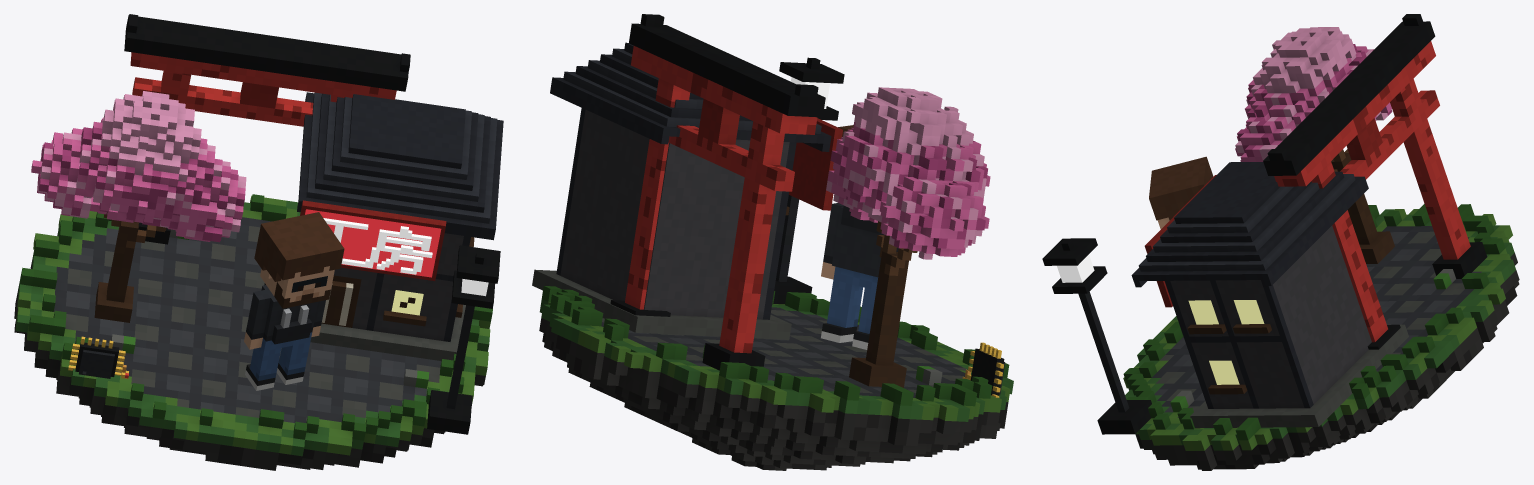
File: diorama-accueil.glb
3 views of the same model, side by side, from view 1: azimuth 30°, elevation 25°; view 2: azimuth 150°, elevation 25°; view 3: azimuth 270°, elevation 25° (orthographic). The views are drawn at different scales.
Parts seen in each view (by area): view 1: island, kobo, sakura, torii, koboSign, avatarHead, avatarBody, streetLamp, iconChip; view 2: island, kobo, torii, sakura, avatarBody, streetLamp, koboSign, iconChip; view 3: kobo, island, torii, sakura, streetLamp, avatarHead, koboSign.
Part boxes in pixels (bbox=[...]): island: bbox=[14, 194, 492, 470]; kobo: bbox=[297, 92, 503, 360]; sakura: bbox=[31, 91, 246, 322]; torii: bbox=[124, 14, 410, 244]; koboSign: bbox=[300, 200, 446, 280]; avatarHead: bbox=[254, 212, 344, 308]; avatarBody: bbox=[244, 283, 325, 390]; streetLamp: bbox=[427, 245, 500, 434]; iconChip: bbox=[68, 336, 128, 378]; island: bbox=[539, 286, 1013, 470]; kobo: bbox=[532, 42, 831, 339]; torii: bbox=[610, 14, 825, 370]; sakura: bbox=[826, 87, 990, 387]; avatarBody: bbox=[821, 203, 898, 349]; streetLamp: bbox=[773, 57, 844, 304]; koboSign: bbox=[789, 118, 842, 210]; iconChip: bbox=[962, 342, 1005, 397]; kobo: bbox=[1131, 162, 1408, 428]; island: bbox=[1123, 204, 1519, 470]; torii: bbox=[1263, 14, 1487, 349]; sakura: bbox=[1235, 27, 1394, 263]; streetLamp: bbox=[1042, 238, 1151, 434]; avatarHead: bbox=[1149, 156, 1213, 229]; koboSign: bbox=[1144, 175, 1216, 307].
Bounding box in the file's own units: 4.15 × 3.56 × 4.12.
